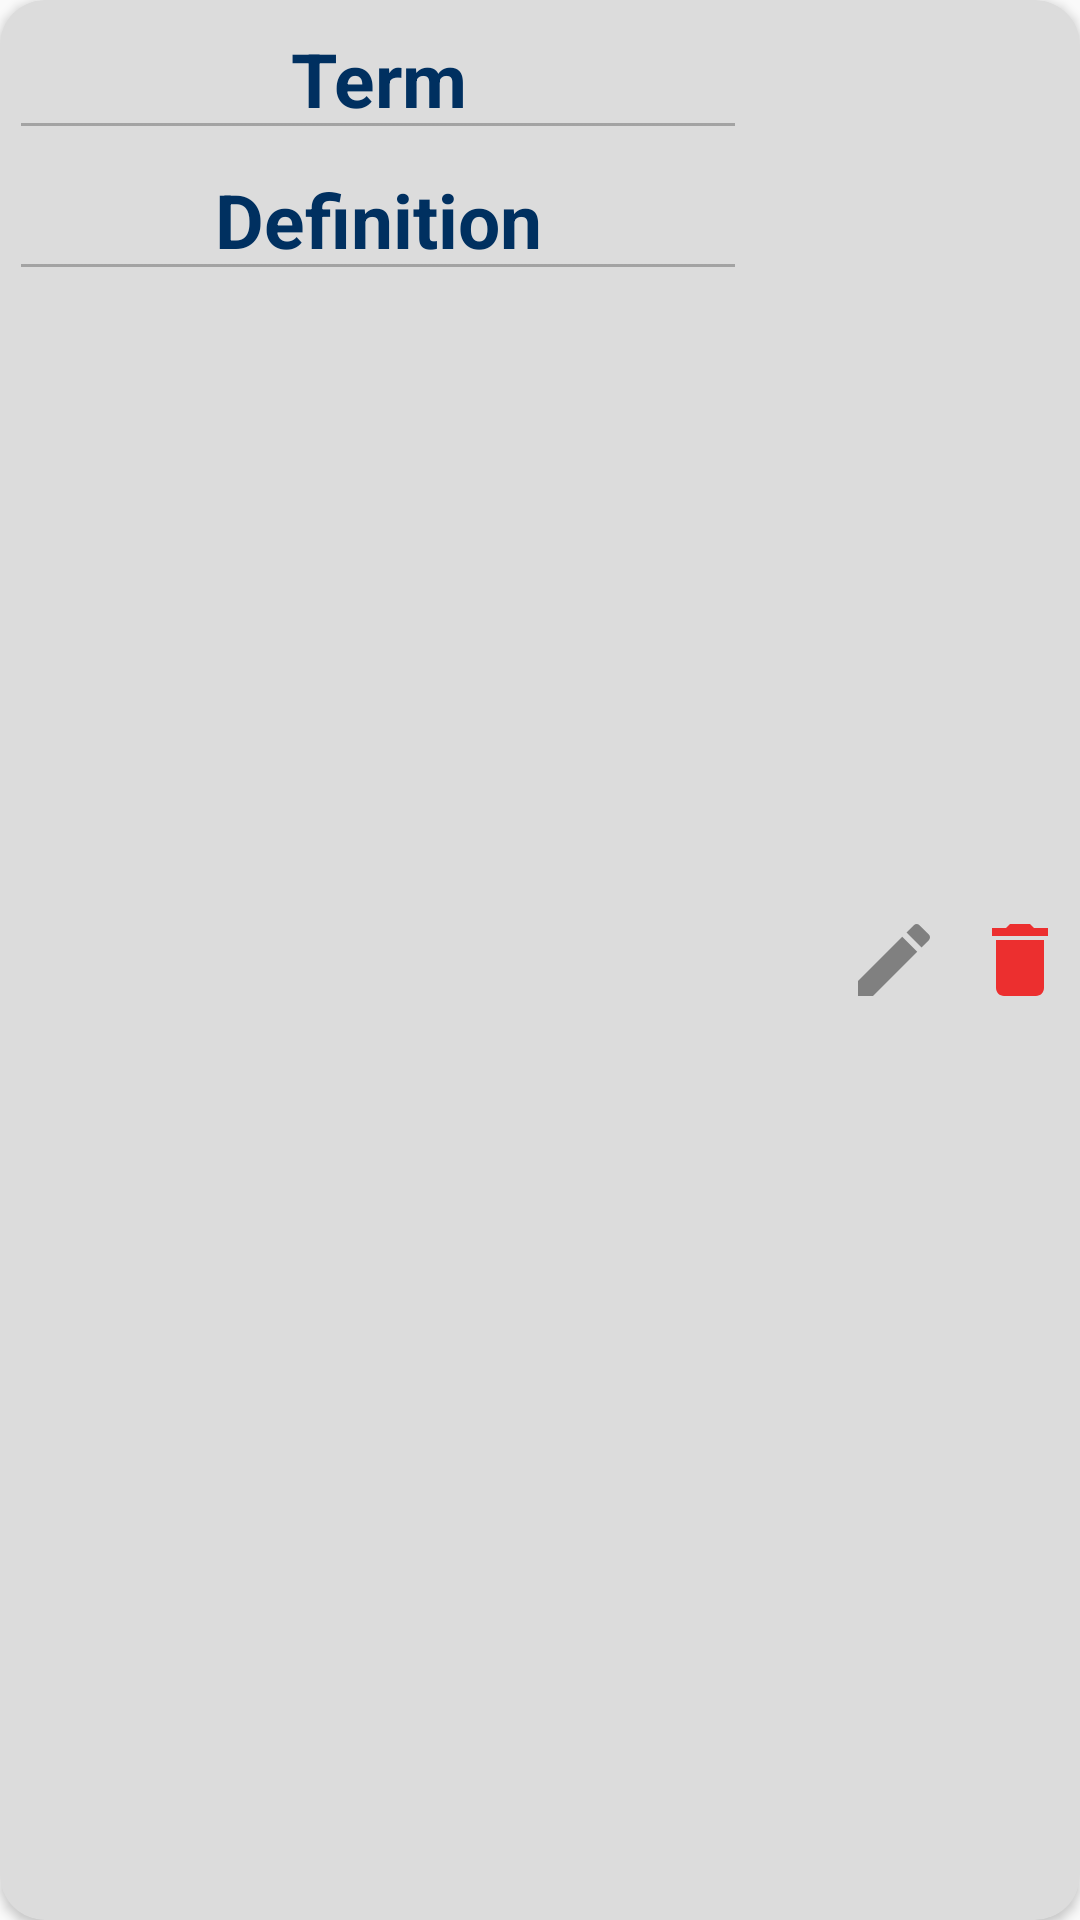

Screen size 1080px×1920px. Icon name, then its box in pixels as (x1,y1,x2,y2):
create: (858,924,930,996)
delete: (992,924,1048,996)
